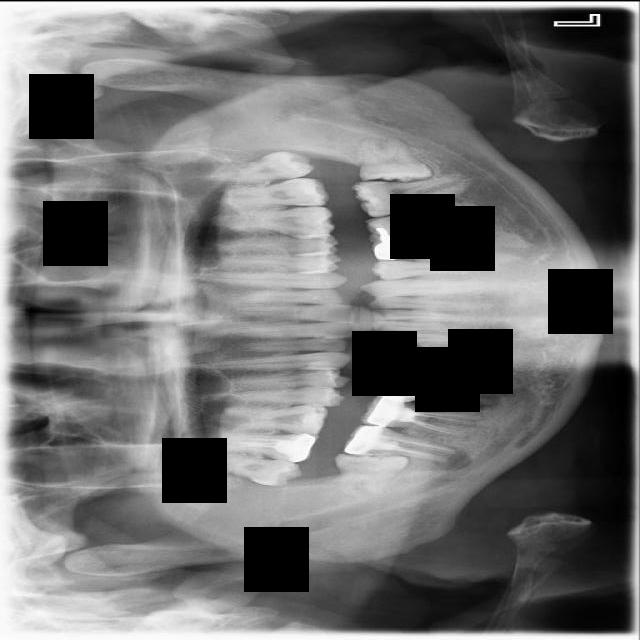3M ESPE Implant: (198, 449, 304, 489)
52: (364, 210, 429, 250), (358, 392, 415, 427), (342, 423, 393, 457), (371, 233, 427, 263), (267, 431, 319, 461), (280, 404, 328, 436), (375, 376, 422, 403), (297, 350, 352, 370), (378, 358, 418, 382)
73: (399, 399, 480, 441), (377, 428, 460, 465), (415, 383, 495, 411), (214, 431, 280, 457), (419, 235, 484, 256), (533, 37, 557, 45)
BioHorizons Implant: (225, 176, 329, 207)
BioLife Implant: (209, 146, 317, 187)
Biomet 3i Implant: (356, 134, 434, 183)
Blue Sky Bio Implant: (351, 170, 473, 219)
Caries: (214, 431, 319, 462)
Implant: (342, 421, 460, 464)
Keystone Dental Implant: (332, 452, 409, 498)
